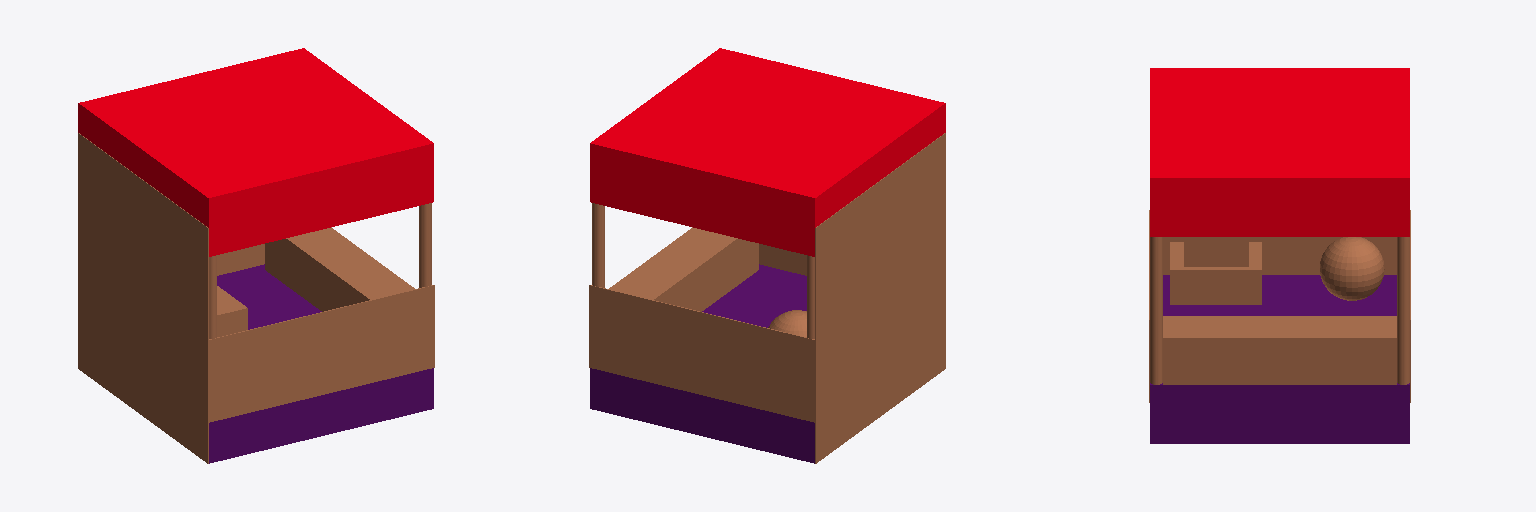
3 renders of one model, left to right at view 1: azimuth 30°, elevation 25°; view 2: azimuth 150°, elevation 25°; view 3: azimuth 270°, elevation 25°, orthographic.
Parts seen in each view (by area): view 1: Cube, 立方體.002, 立方體.003, Cube.001, 立方體.001, 立方體.004, 圓柱體.002, 立方體, 圓柱體.004; view 2: Cube, 立方體.002, 立方體, Cube.001, 立方體.001, 圓柱體.003, 立方體.003, 球體, 圓柱體; view 3: Cube, Cube.001, 立方體.001, 立方體.005, 立方體.002, 球體, 立方體.004, 圓柱體.002, 圓柱體.003.
Boxes of the visible parts, box(x1,y1,x2,y2) form: Cube: box(78, 48, 433, 256); 立方體.002: box(78, 133, 208, 463); 立方體.003: box(209, 285, 434, 422); Cube.001: box(209, 264, 433, 463); 立方體.001: box(265, 227, 414, 311); 立方體.004: box(217, 286, 247, 336); 圓柱體.002: box(419, 203, 431, 287); 立方體: box(217, 244, 264, 275); 圓柱體.004: box(209, 255, 216, 338); Cube: box(590, 48, 945, 256); 立方體.002: box(815, 133, 945, 463); 立方體: box(589, 285, 814, 422); Cube.001: box(590, 264, 814, 463); 立方體.001: box(609, 227, 758, 311); 圓柱體.003: box(592, 203, 604, 287); 立方體.003: box(759, 244, 806, 275); 球體: box(768, 310, 806, 336); 圓柱體: box(807, 255, 814, 338); Cube: box(1150, 68, 1409, 236); Cube.001: box(1150, 275, 1409, 443); 立方體.001: box(1163, 316, 1396, 384); 立方體.005: box(1170, 242, 1261, 304); 立方體.002: box(1163, 237, 1396, 274); 球體: box(1320, 237, 1384, 300); 立方體.004: box(1184, 237, 1248, 266); 圓柱體.002: box(1150, 237, 1162, 384); 圓柱體.003: box(1397, 237, 1409, 384).
Bounding box in the file's own units: 20.05 × 22.5 × 20.1.
3 materials, 3 textured.